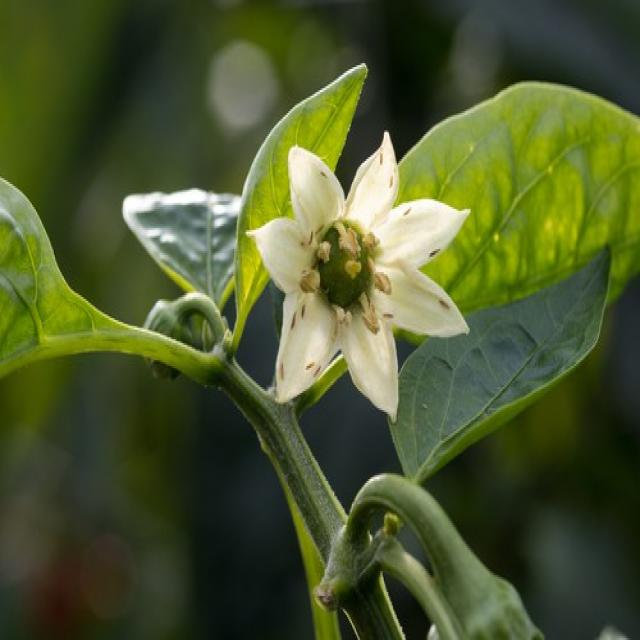Thrip-Adult-: (436, 286, 452, 314), (277, 354, 288, 388), (379, 310, 399, 324), (402, 203, 417, 221), (298, 298, 308, 323), (428, 240, 441, 258), (289, 307, 297, 335)
